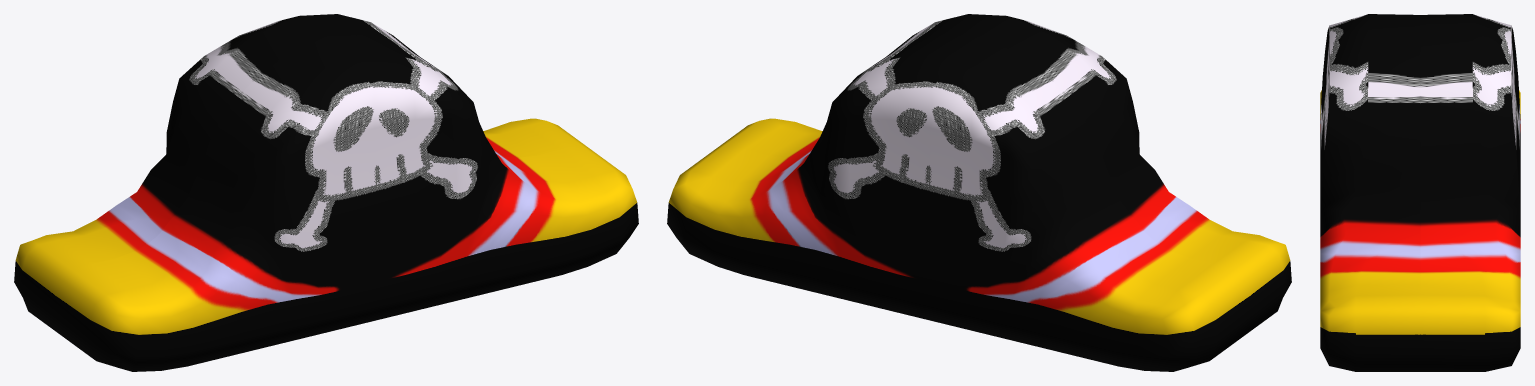
File: Pirat hat.fbx
The picture shows the model from 3 angles, left to right: view 1: azimuth 30°, elevation 25°; view 2: azimuth 150°, elevation 25°; view 3: azimuth 270°, elevation 25°; orthographic projection. The views are drawn at different scales.
Parts seen in each view (by area): view 1: Box004; view 2: Box004; view 3: Box004.
Part boxes in pixels (<box>): Box004: <box>14,14,638,371</box>; Box004: <box>667,14,1291,371</box>; Box004: <box>1320,14,1520,371</box>.
Bounding box in the file's own units: 53.97 × 24.3 × 18.18.
Materials: 1 (1 with a texture image).
